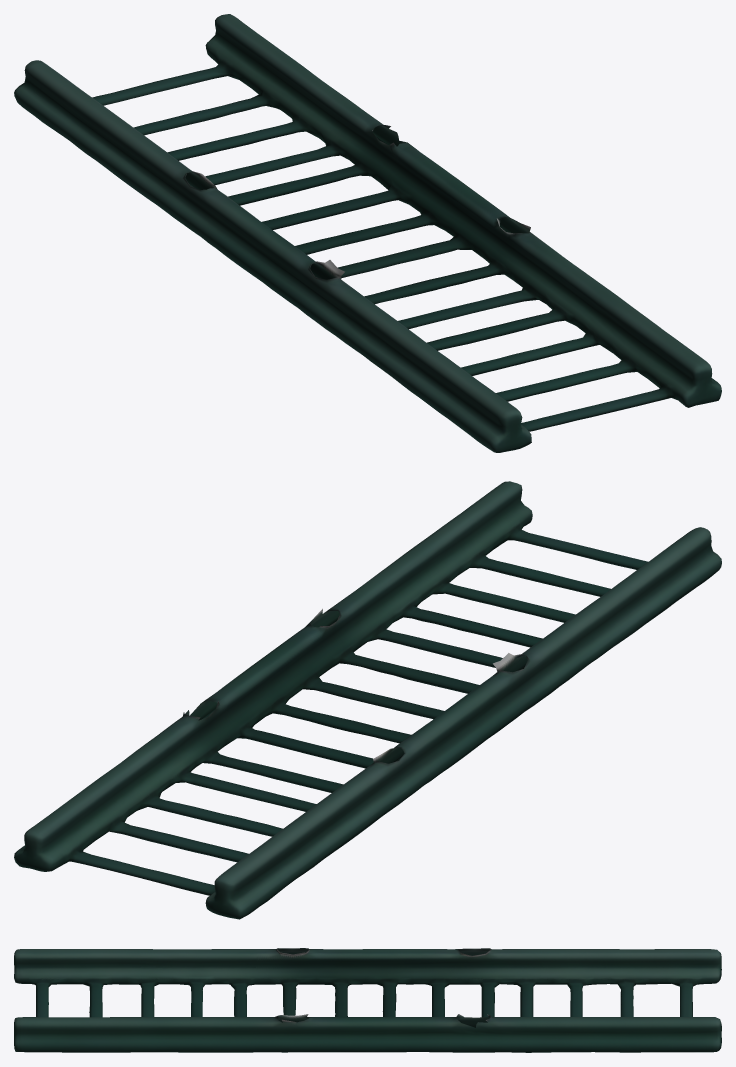
Rendered from original.glb.
3 renders of one model, top to bottom at view 1: azimuth 30°, elevation 25°; view 2: azimuth 150°, elevation 25°; view 3: azimuth 270°, elevation 25°, orthographic. The views are drawn at different scales.
Visible parts, largest first — view 1: model.012, model.072, model.004, model.011, model.088, model.092, model.074, model.006, model.093, model.075, model.069, model.073 (+17 smaller); view 2: model.012, model.072, model.004, model.011, model.088, model.092, model.006, model.074, model.061, model.007, model.063, model.069 (+16 smaller); view 3: model.004, model.072, model.012, model.011, model.058, model.092, model.073, model.088, model.089, model.061, model.093, model.070 (+20 smaller).
Part boxes in pixels (x1,y1,x2,y2): model.012: (149,174,437,342); model.072: (430,180,659,359); model.004: (217,14,407,189); model.011: (32,72,215,189); model.088: (324,276,433,391); model.092: (399,348,505,427); model.074: (611,324,699,392); model.006: (391,150,461,218); model.093: (458,399,531,452); model.075: (521,389,671,431); model.069: (295,211,437,254); model.073: (659,345,721,407); model.012: (334,653,570,808); model.072: (263,513,486,698); model.004: (14,699,254,865); model.011: (235,748,392,898); model.088: (514,588,637,679); model.092: (612,537,697,630); model.006: (222,661,292,728); model.074: (452,485,527,568); model.061: (205,857,261,919); model.007: (16,829,79,871); model.063: (69,851,215,895); model.069: (266,698,411,743); model.004: (456,1014,721,1052); model.072: (82,1014,385,1052); model.012: (255,948,489,1016); model.011: (455,948,702,989); model.058: (284,1017,490,1052); model.092: (39,949,141,985); model.073: (14,1017,108,1052); model.088: (140,948,280,984); model.089: (141,964,255,983); model.061: (678,949,721,984); model.093: (14,949,67,984); model.070: (426,977,483,1012).
Bounding box in the file's own units: 0.4748 × 0.086 × 1.73.
Materials: 1 (1 with a texture image).
